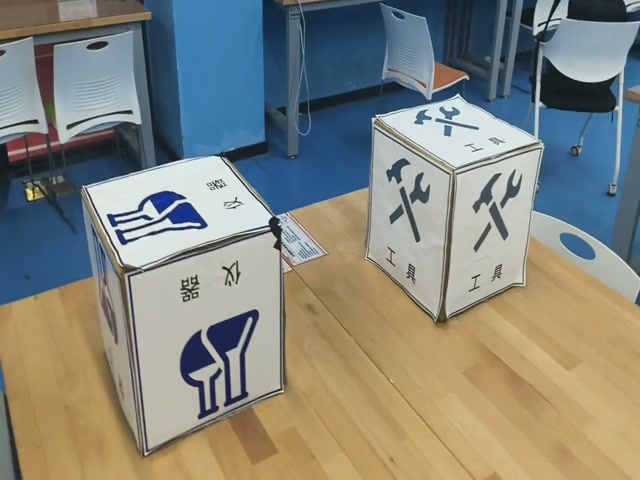Cube_ins: (82, 157, 279, 280)
Cube_tool: (373, 95, 542, 178)
